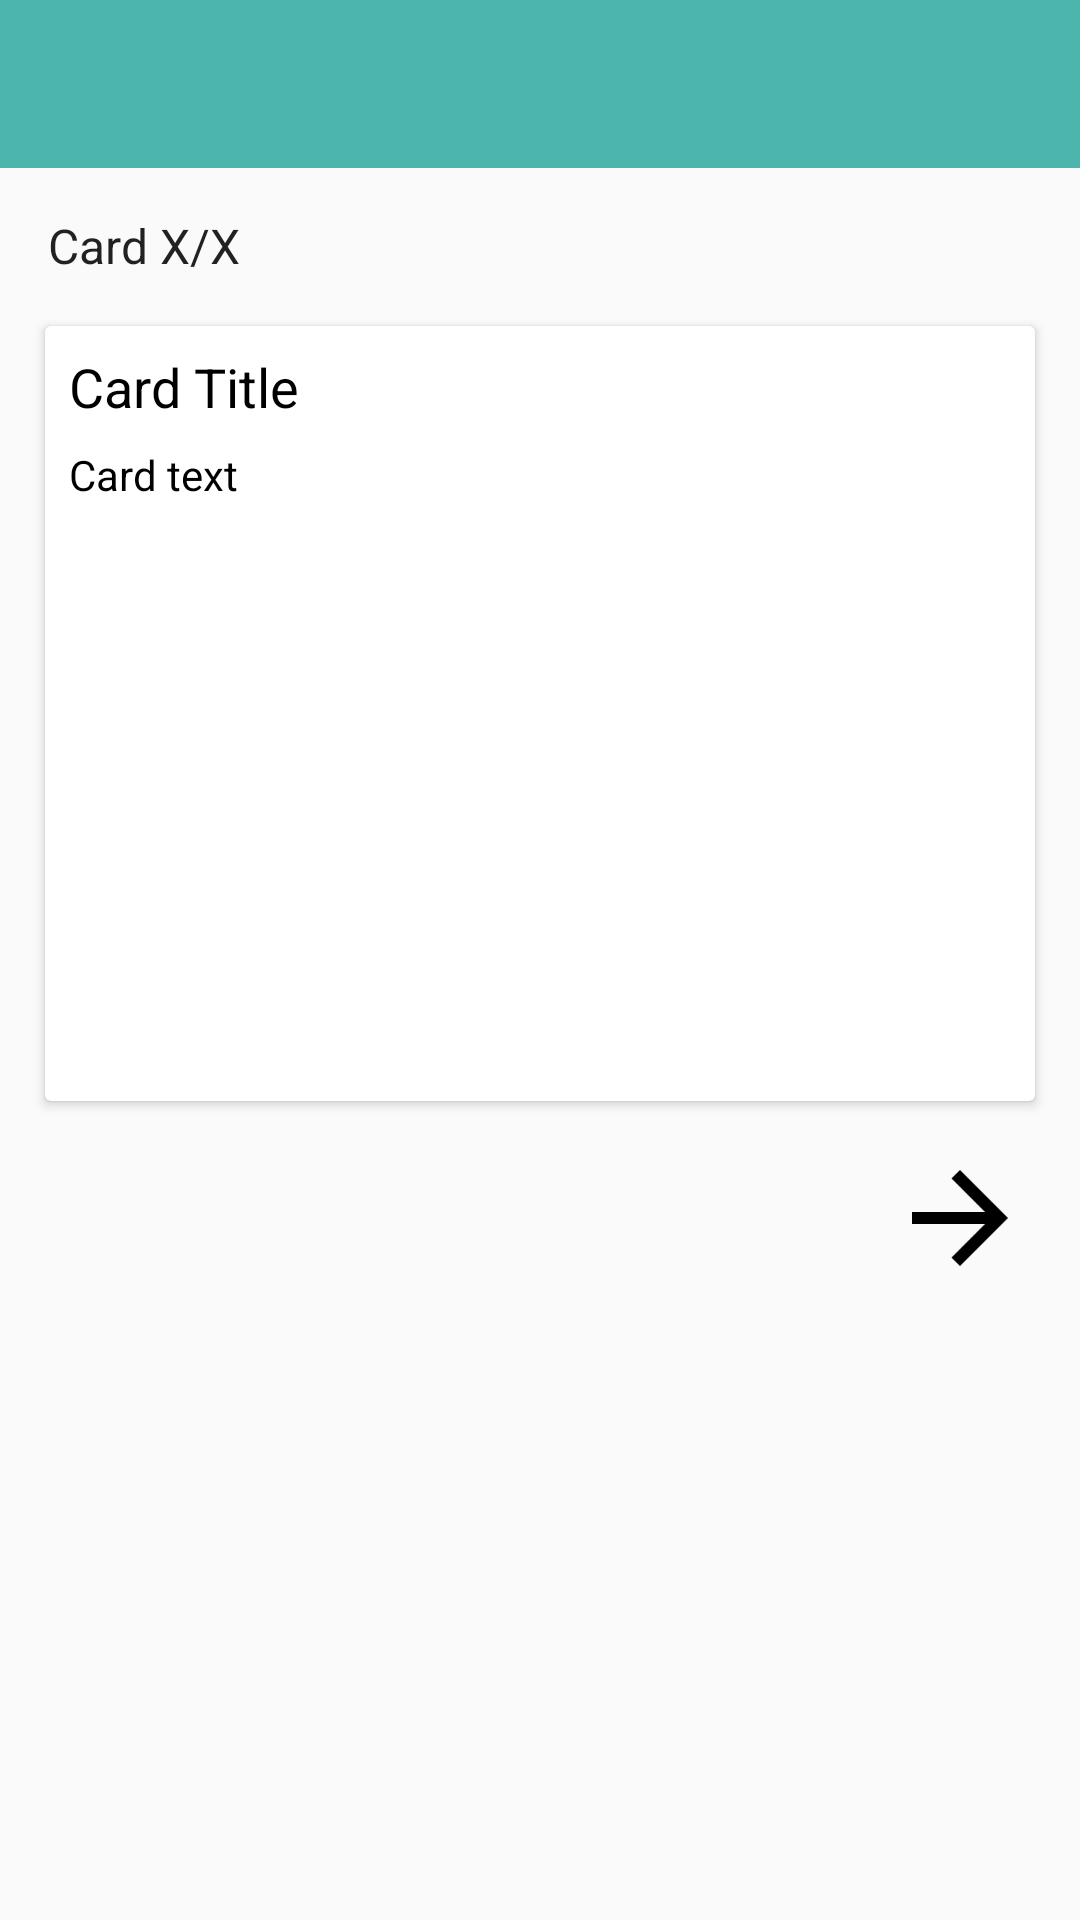

Where to tap for icons on this 1080px×1920px app screen, as (x=x, y=y):
Forward: (x=960, y=1218)
